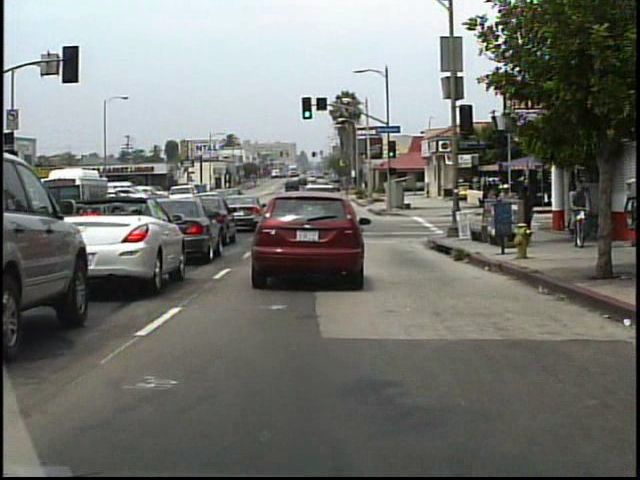person: (518, 176, 537, 239), (498, 180, 519, 236), (574, 182, 593, 237), (599, 188, 614, 244), (579, 183, 580, 237)
